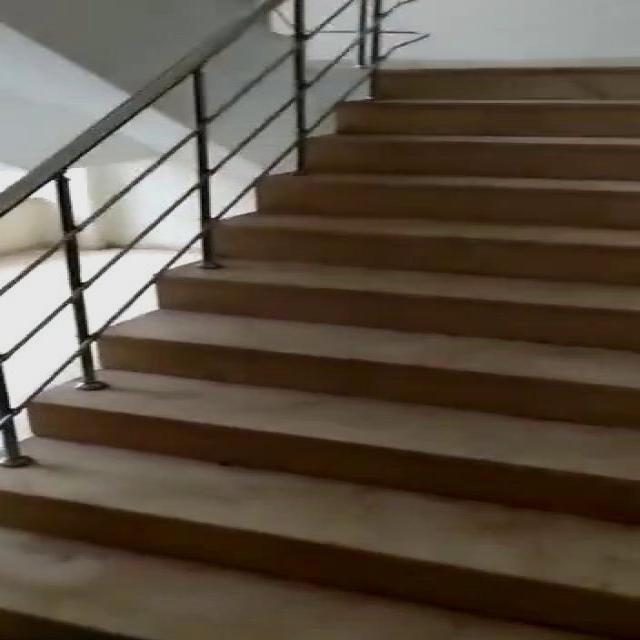stair: (1, 66, 640, 640)
